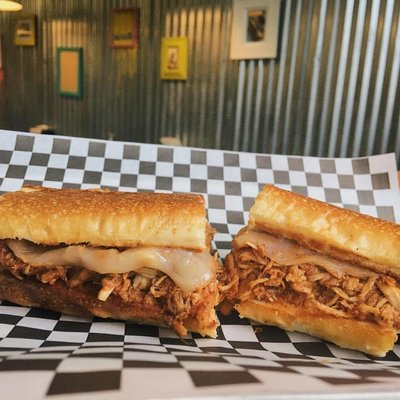soup: (1, 187, 222, 339), (220, 184, 400, 358)
